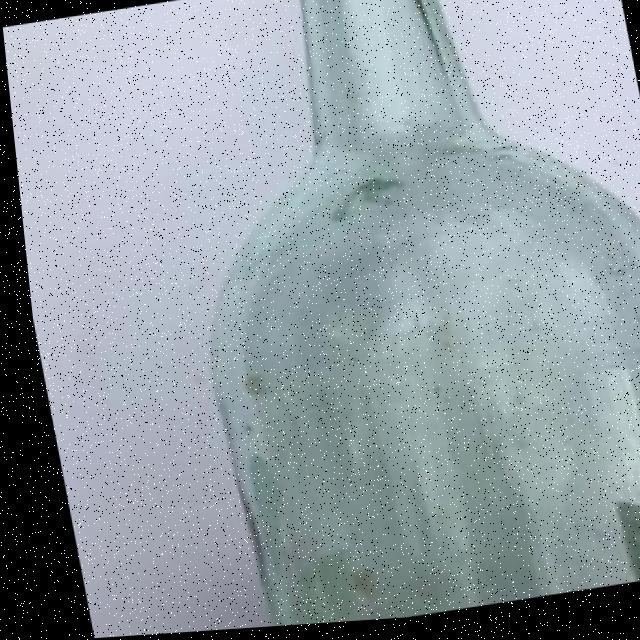glass: (142, 0, 640, 633)
